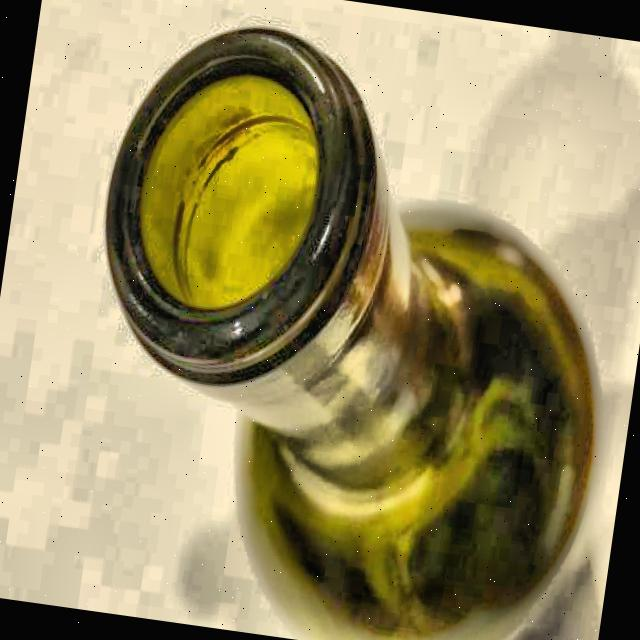glass: (46, 5, 640, 640)
